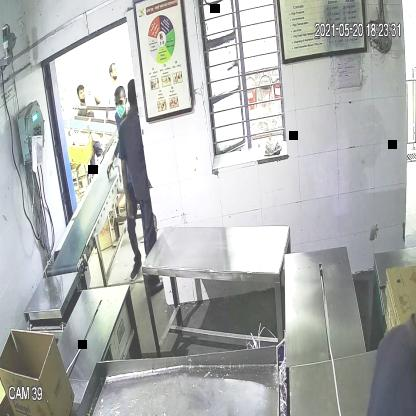no_goggles: (112, 96, 126, 111)
